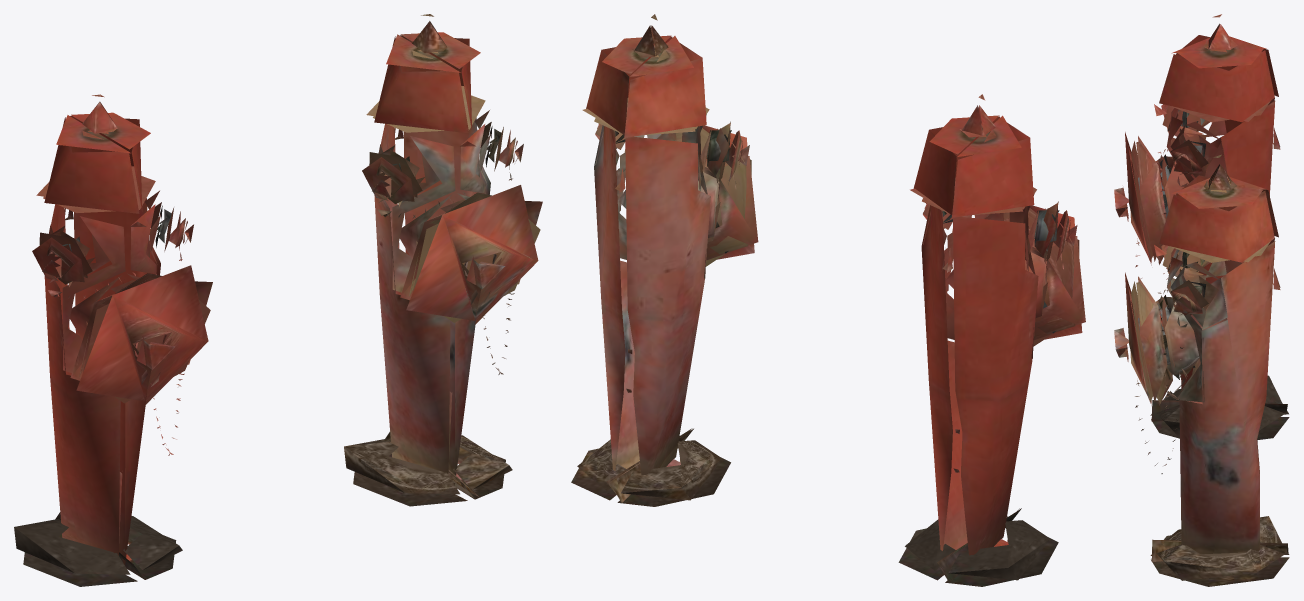
Rendered from fire_hydrant.glb.
3 views of the same model, side by side, from view 1: azimuth 30°, elevation 25°; view 2: azimuth 150°, elevation 25°; view 3: azimuth 270°, elevation 25° (orthographic). The views are drawn at different scales.
Visible parts, largest first — view 1: fire_hydrant_aged, fire_hydrant, fire_hydrant_cap_01_aged, fire_hydrant_cap_01, fire_hydrant_cap_03, fire_hydrant_cap_03_aged; view 2: fire_hydrant_aged, fire_hydrant, fire_hydrant_cap_03_aged, fire_hydrant_cap_03; view 3: fire_hydrant_aged, fire_hydrant, fire_hydrant_cap_01_aged, fire_hydrant_cap_01, fire_hydrant_cap_02, fire_hydrant_cap_02_aged, fire_hydrant_cap_03_aged, fire_hydrant_cap_03, fire_hydrant_chain_aged.
Boxes of the visible parts, <box> form: fire_hydrant_aged: <box>344,14,542,506</box>; fire_hydrant: <box>14,94,212,586</box>; fire_hydrant_cap_01_aged: <box>406,185,540,324</box>; fire_hydrant_cap_01: <box>76,265,210,404</box>; fire_hydrant_cap_03: <box>32,232,92,284</box>; fire_hydrant_cap_03_aged: <box>362,152,422,203</box>; fire_hydrant_aged: <box>571,14,758,506</box>; fire_hydrant: <box>898,94,1085,586</box>; fire_hydrant_cap_03_aged: <box>718,121,749,181</box>; fire_hydrant_cap_03: <box>1046,201,1077,261</box>; fire_hydrant_aged: <box>1136,154,1289,586</box>; fire_hydrant: <box>1136,14,1289,440</box>; fire_hydrant_cap_01_aged: <box>1114,272,1152,405</box>; fire_hydrant_cap_01: <box>1114,132,1153,265</box>; fire_hydrant_cap_02: <box>1170,139,1208,174</box>; fire_hydrant_cap_02_aged: <box>1171,280,1208,315</box>; fire_hydrant_cap_03_aged: <box>1161,244,1207,273</box>; fire_hydrant_cap_03: <box>1161,104,1207,133</box>; fire_hydrant_chain_aged: <box>1135,289,1190,473</box>.
Bounding box in the file's own units: 0.8728 × 0.8014 × 0.3173.
2 materials, 2 textured.
